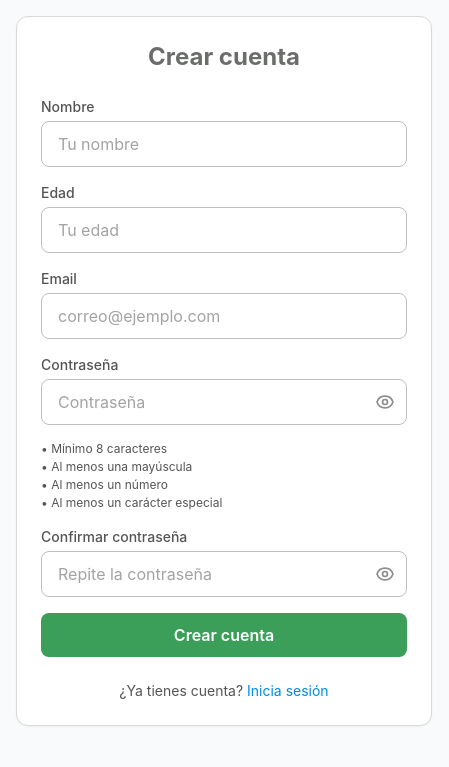
Test: Register › shows invalid age error
This screenshot has width=449, height=767.
Type "Test" into the field labelled "Nombre" at (224, 144), box [41,121,407,167]
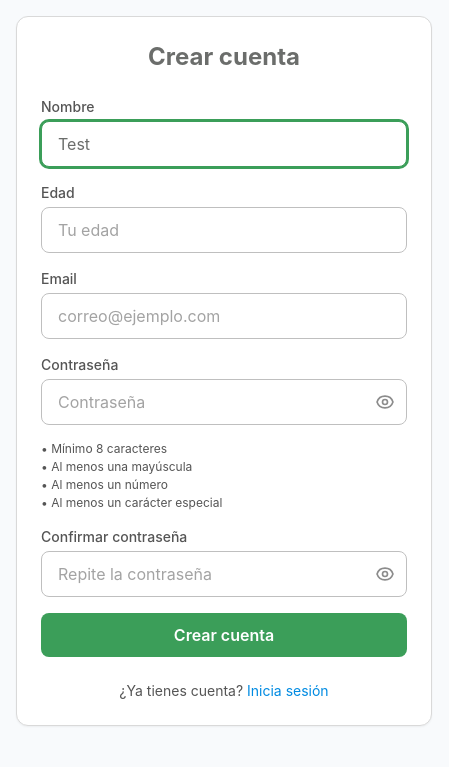
Type "200" into the number field labelled "Edad" at (224, 230), box [41,207,407,253]
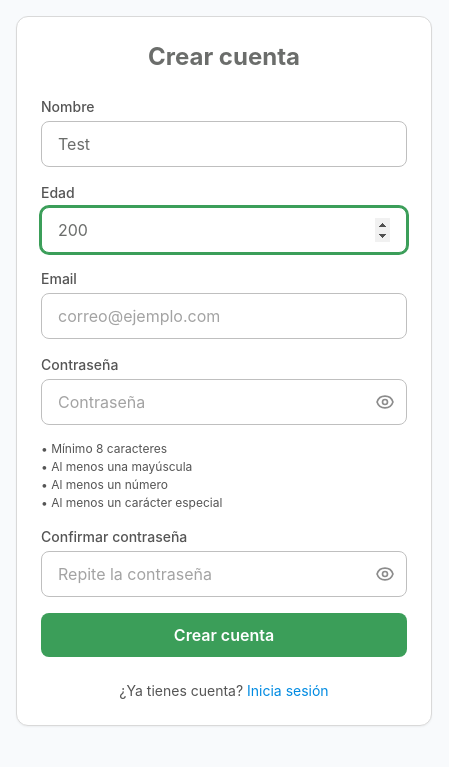
Type "test@test.com" into the field labelled "Email" at (224, 316), box [41,293,407,339]
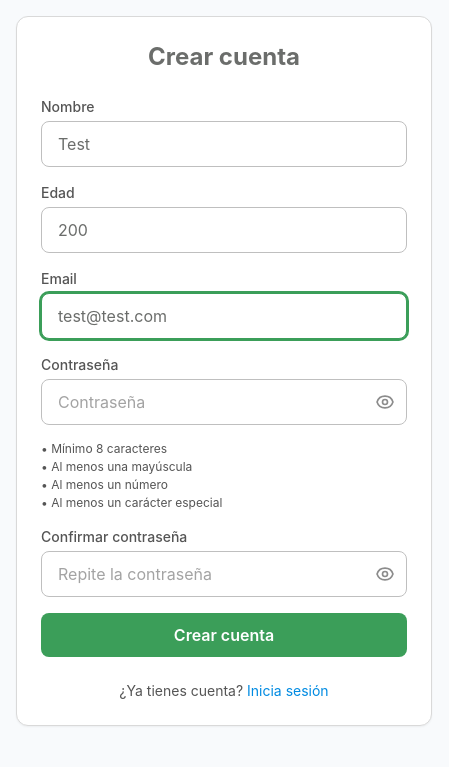
Type "Password1!" into the password field labelled "Contraseña" at (224, 402), box [41,379,407,425]
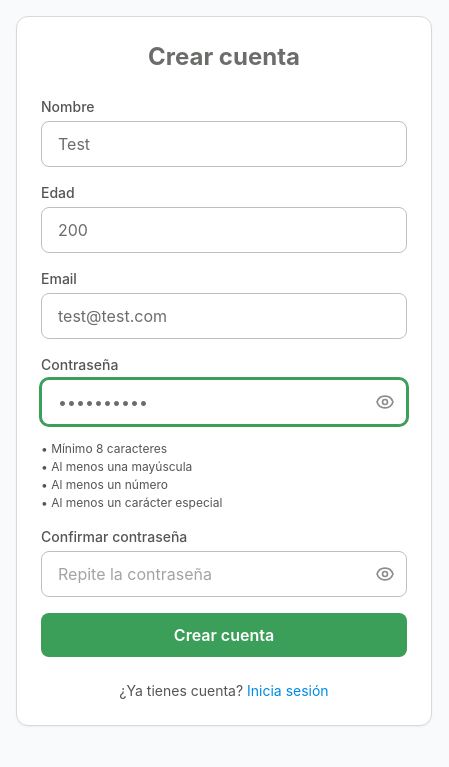
Type "Password1!" into the password field labelled "Confirmar contraseña" at (224, 574), box [41,551,407,597]
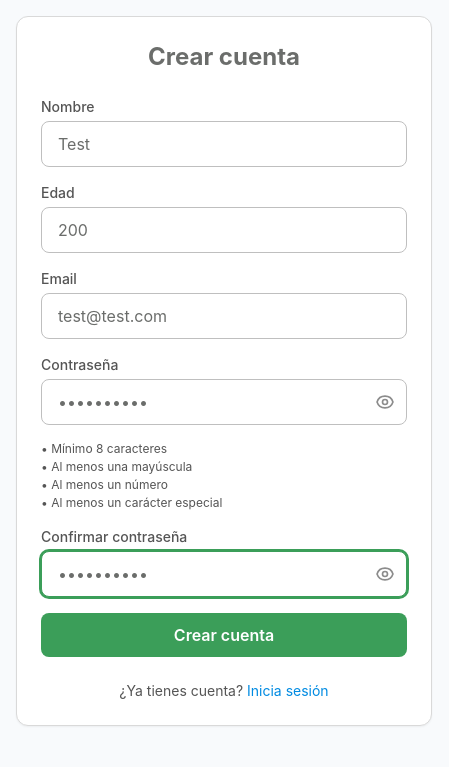
Submit the form named "crear cuenta", box [41,97,407,657]
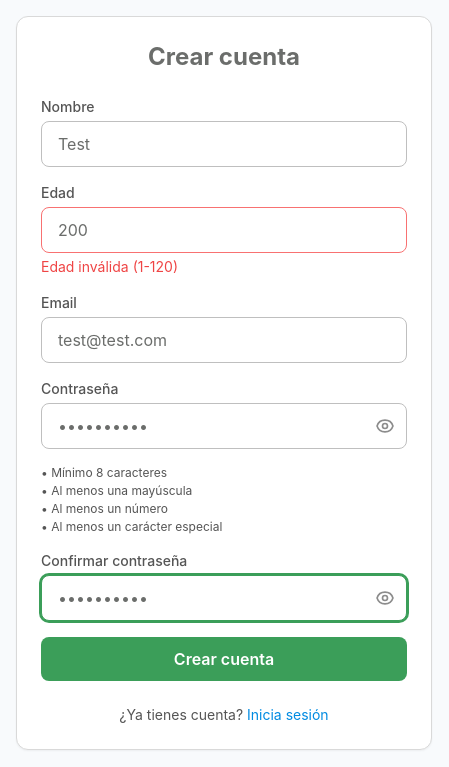
Expected: the text "Edad inválida (1-120)" is shown, [41,258,178,275]
